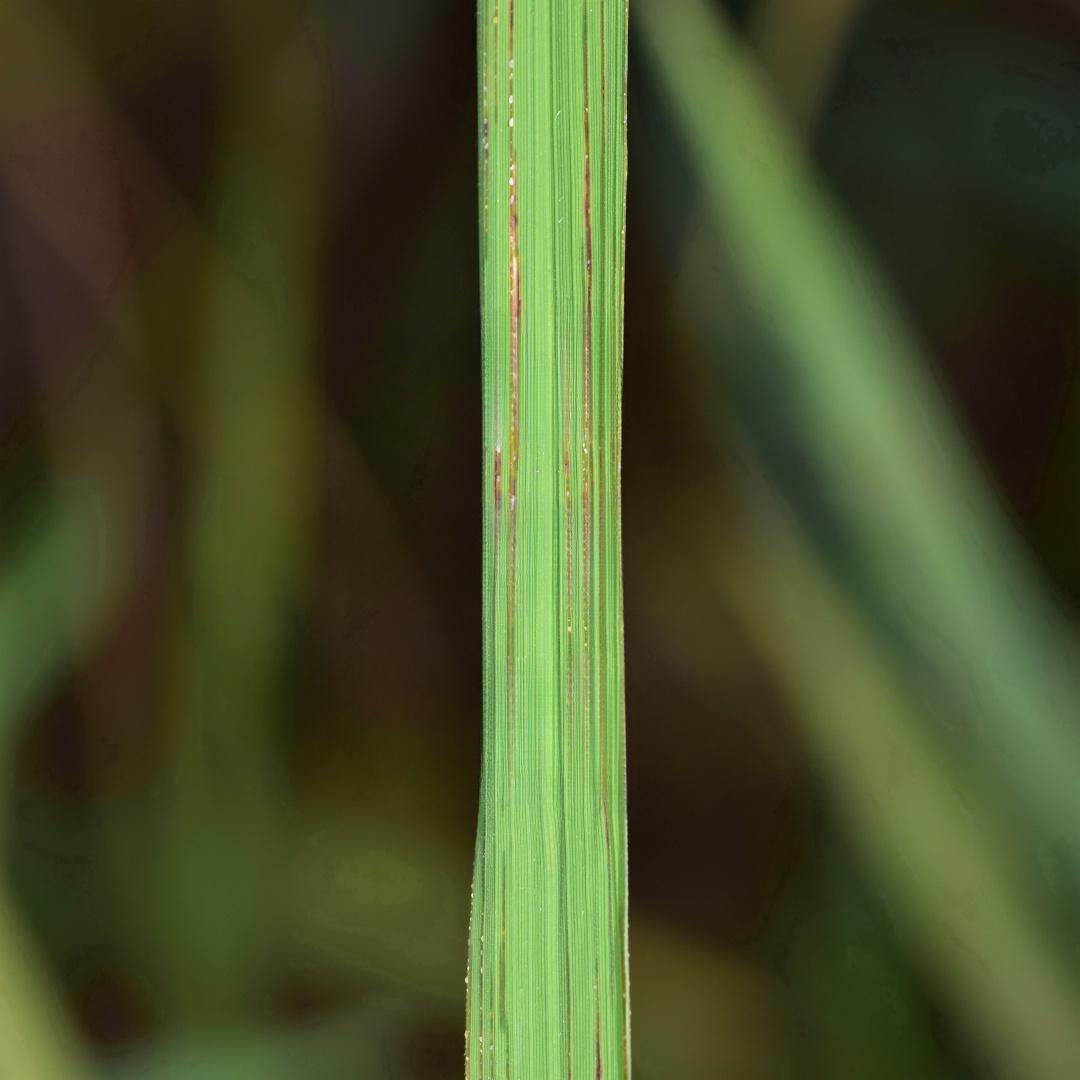BLS: (599, 0, 611, 949), (508, 0, 520, 804), (583, 0, 593, 752), (620, 0, 629, 368), (494, 360, 502, 742), (566, 348, 573, 751), (478, 803, 486, 1079), (482, 0, 489, 262), (619, 911, 628, 1079), (465, 882, 472, 1079), (566, 891, 573, 1079), (499, 847, 506, 1028), (595, 959, 603, 1079), (611, 362, 616, 545), (490, 974, 496, 1079), (494, 0, 498, 137)
LEAF: (465, 0, 632, 1079)
